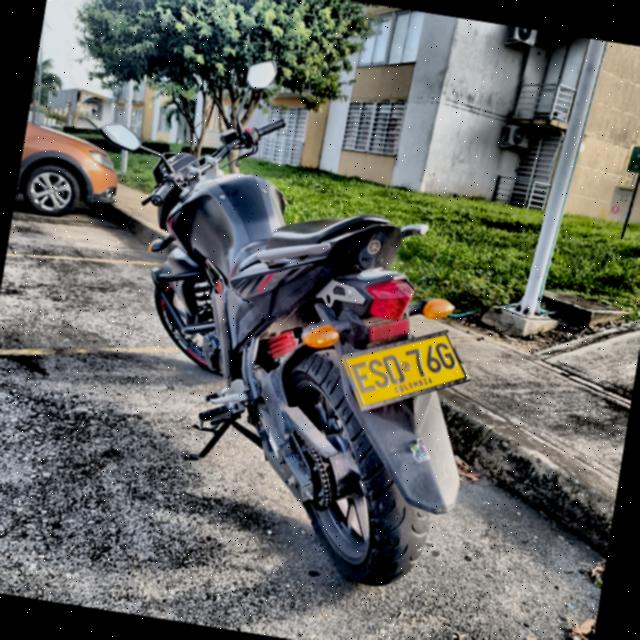6: (420, 344, 445, 375)
7: (404, 348, 429, 379)
E: (350, 361, 378, 395)
G: (433, 341, 460, 372)
O: (381, 353, 408, 386)
S: (366, 357, 393, 390)
